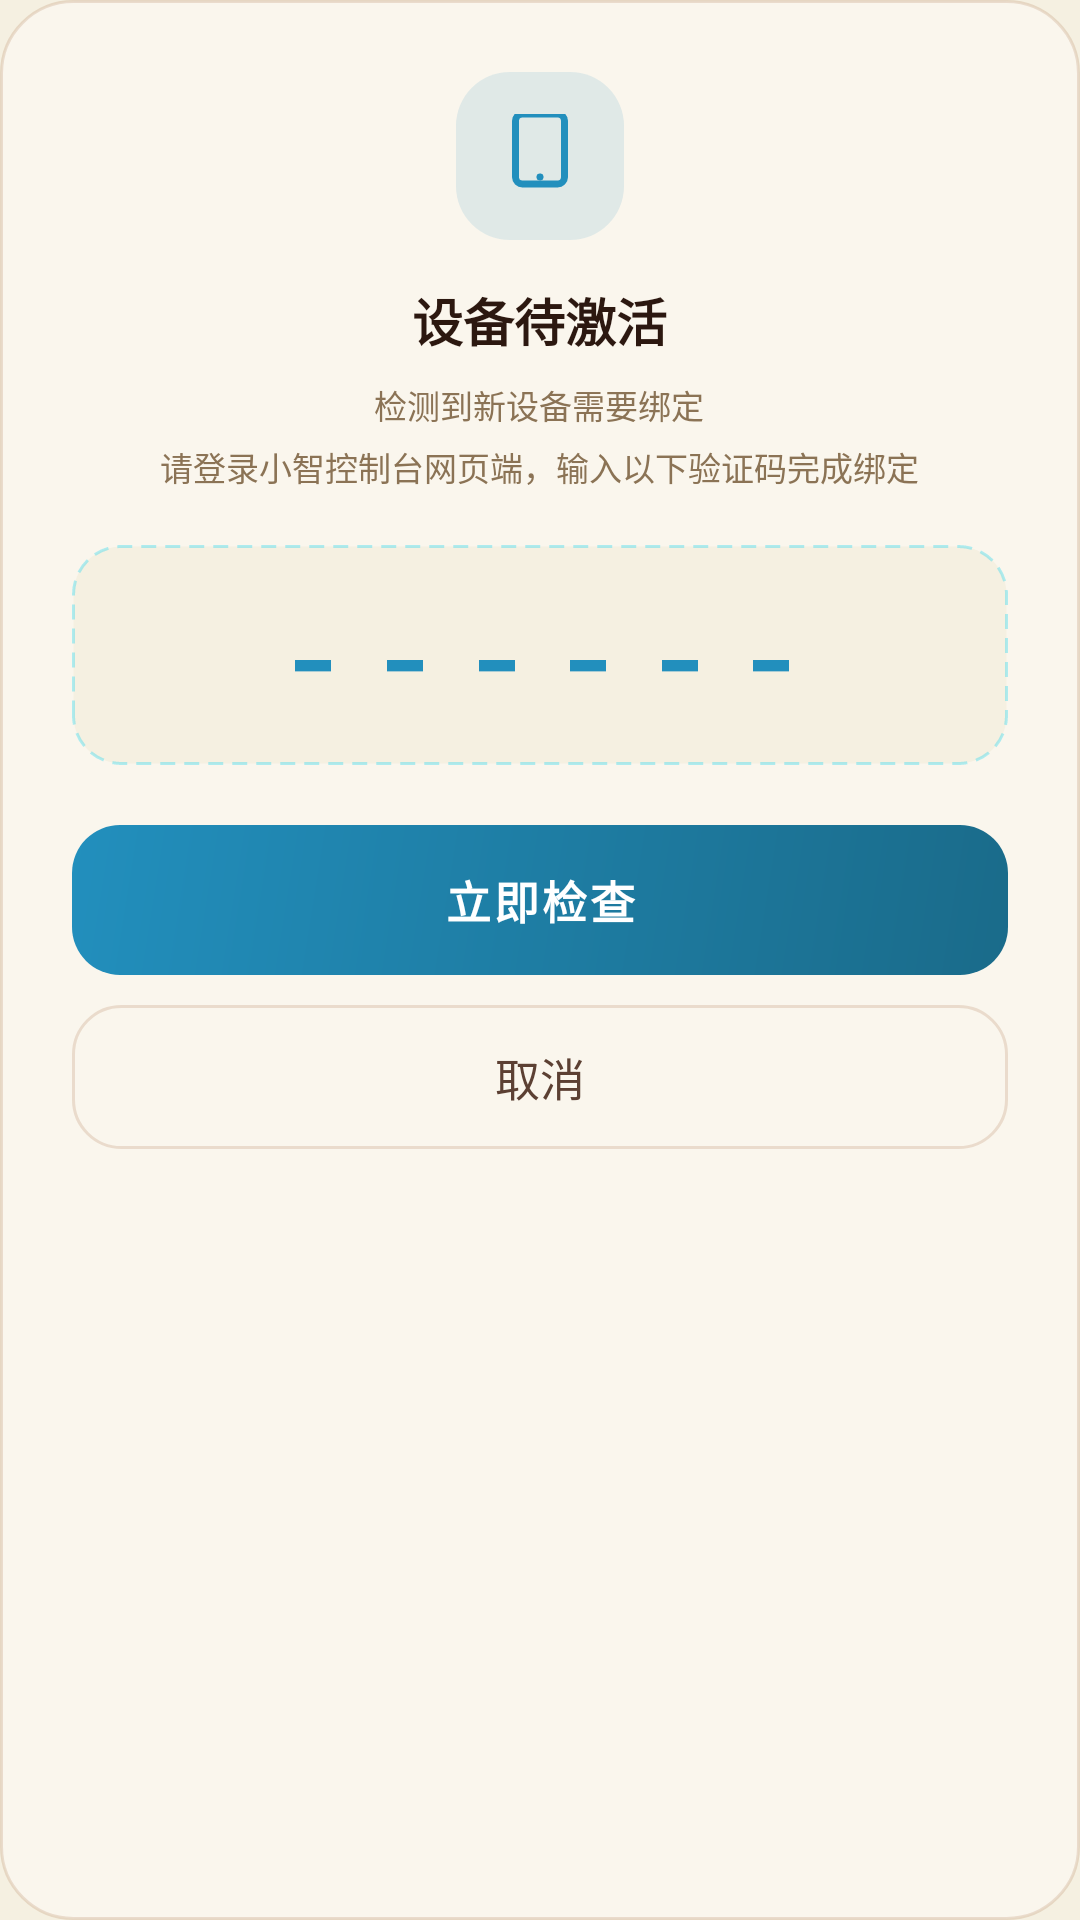

Screen size 1080×1920. Icon name, then its center in pixels as (x,y):
device: (540,151)
